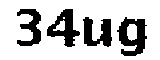3: (11, 10, 42, 48)
4: (46, 6, 80, 52)
g: (116, 15, 153, 60)
u: (80, 16, 115, 50)
